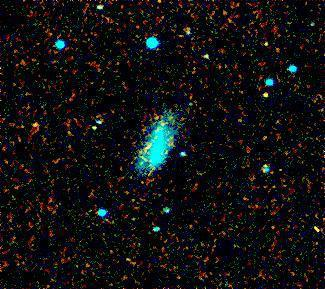star: (22, 111, 52, 141)
